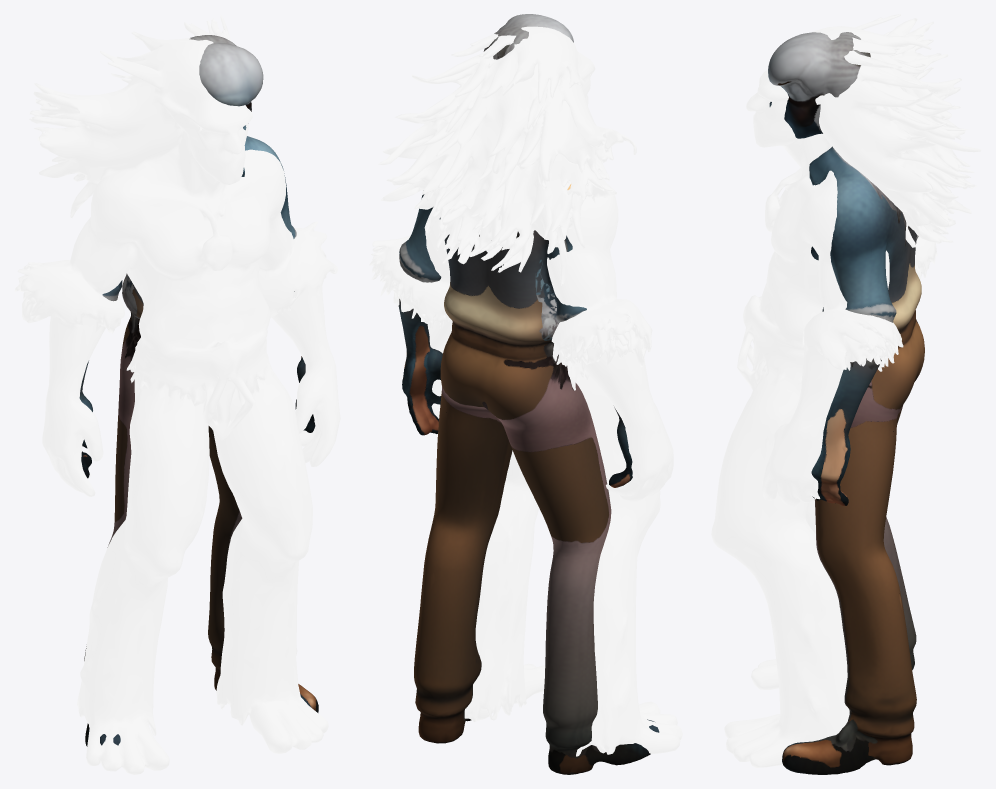
Rendered from troll_wrapped.glb.
3 views of the same model, side by side, from view 1: azimuth 30°, elevation 25°; view 2: azimuth 150°, elevation 25°; view 3: azimuth 270°, elevation 25° (orthographic). The views are drawn at different scales.
Visible parts, largest first — view 1: Outfit, Body; view 2: Outfit, Body; view 3: Outfit, Body.
Part boxes in pixels (x1=…): Outfit: x1=14, y1=14, x2=340, y2=774; Body: x1=79, y1=35, x2=318, y2=746; Outfit: x1=369, y1=26, x2=682, y2=761; Body: x1=398, y1=14, x2=659, y2=774; Outfit: x1=711, y1=14, x2=981, y2=767; Body: x1=768, y1=32, x2=924, y2=774.
Size of the model in its own units: 0.807 by 1.85 by 0.6523.
2 materials, 1 textured.
